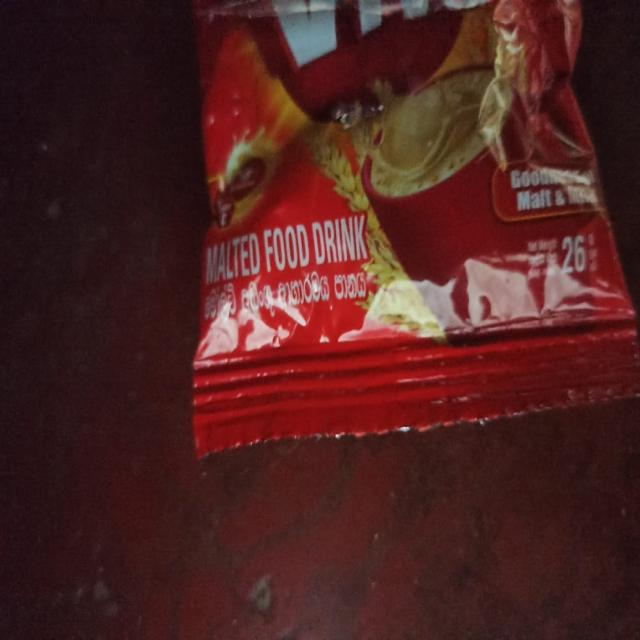Viva Malt: (158, 0, 640, 466)
